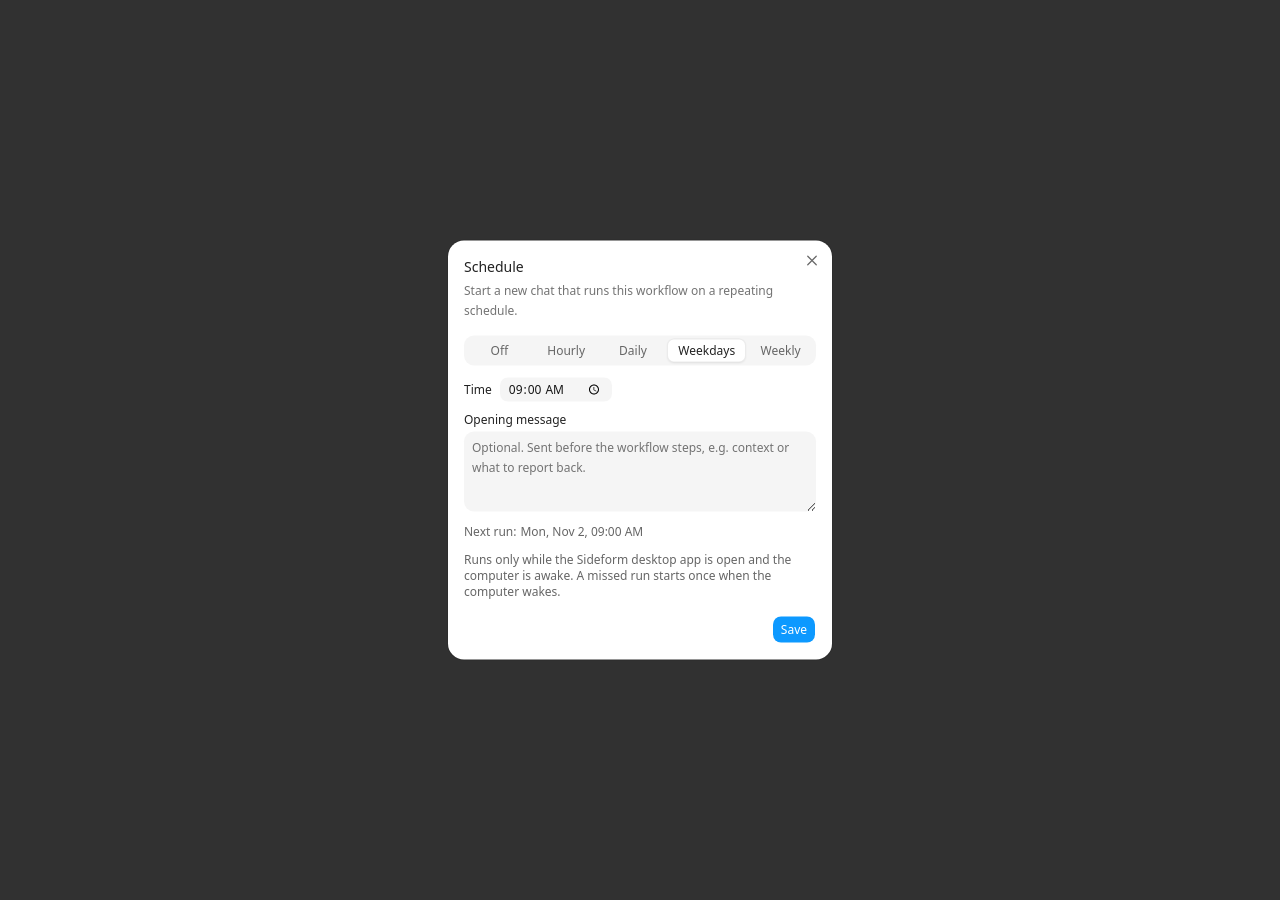
Test: ScheduleDialog › shows an error and disables Save for the minute
Step 1. Click the radio button labelled "Hourly" → point(566, 350), box [547,342,585,359]
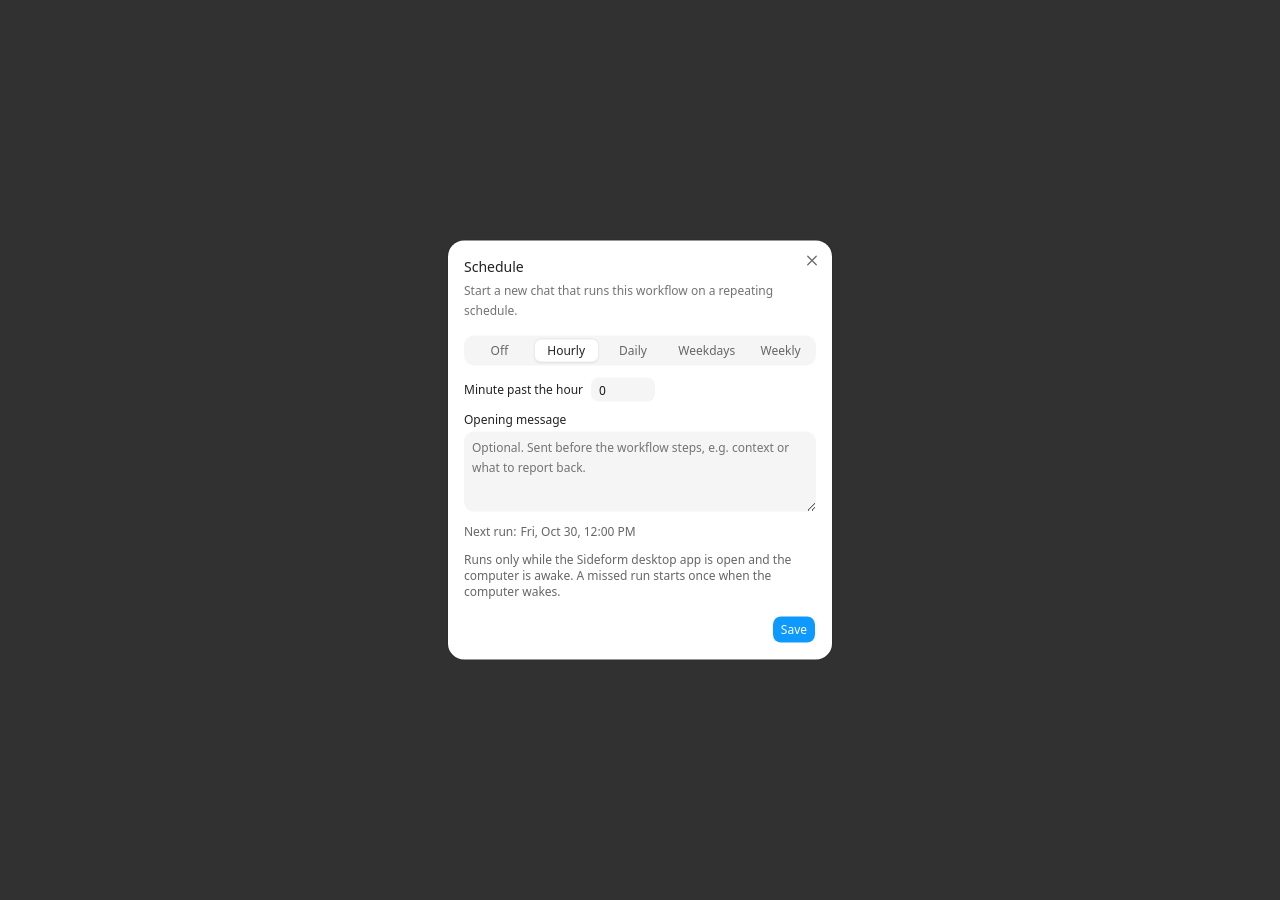
Step 2. Clear the number field labelled "Minute past the hour" → point(623, 390), box [591,378,655,402]
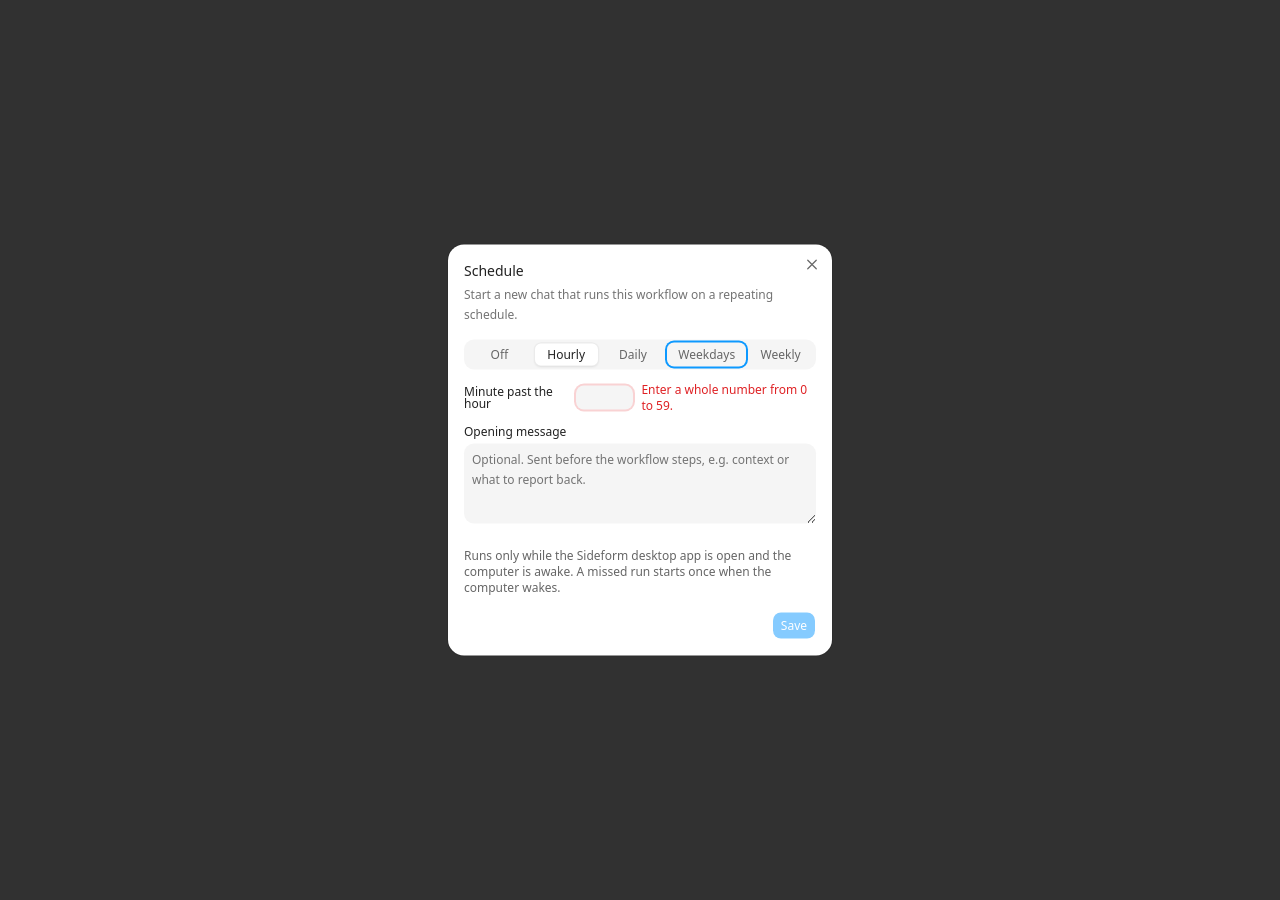
expect the message shows "0 to 59": met, box [641,380,807,414]
expect the button "Save" is disabled: met, box [772,612,816,640]
